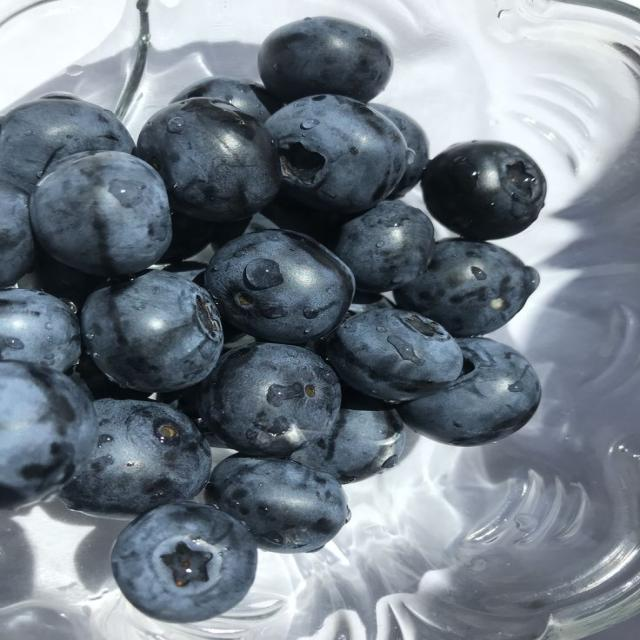blueberry: (60, 399, 211, 517), (137, 98, 280, 221), (112, 502, 257, 622), (30, 152, 171, 275), (81, 270, 222, 392), (206, 230, 354, 343), (266, 95, 406, 213), (199, 344, 340, 456), (399, 338, 540, 445), (0, 361, 97, 508), (395, 239, 539, 337), (206, 455, 348, 552), (0, 99, 133, 192), (327, 310, 462, 401), (422, 141, 546, 240), (259, 17, 393, 101), (332, 201, 434, 292), (291, 408, 404, 483), (0, 289, 81, 371), (19, 244, 104, 308), (371, 104, 428, 198), (173, 77, 281, 122), (262, 196, 343, 245), (68, 353, 149, 400), (0, 181, 34, 289), (158, 213, 219, 263), (211, 213, 277, 253), (157, 385, 209, 435), (43, 150, 101, 177), (345, 291, 394, 319), (348, 291, 394, 315), (165, 261, 206, 281), (38, 91, 81, 100)
